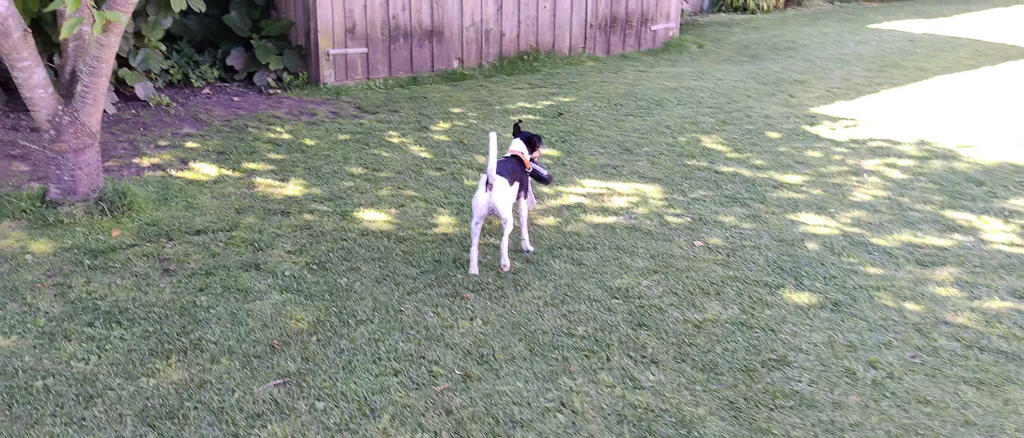Dog: (458, 114, 558, 280)
